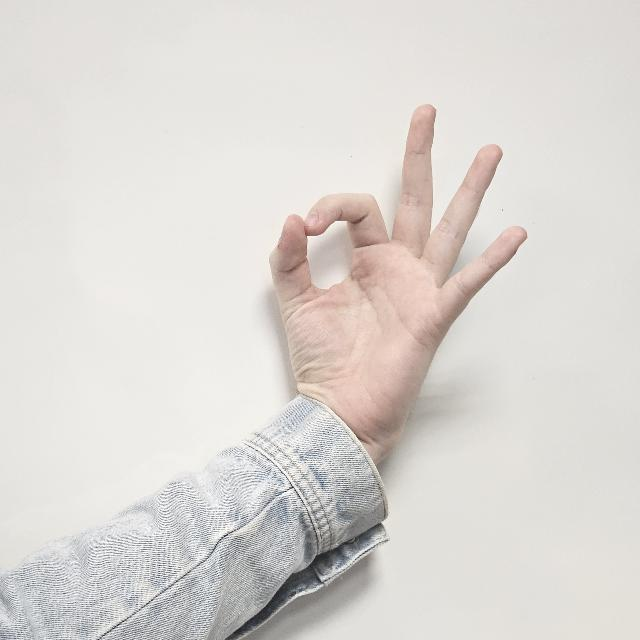Bolinha: (265, 106, 525, 467)
